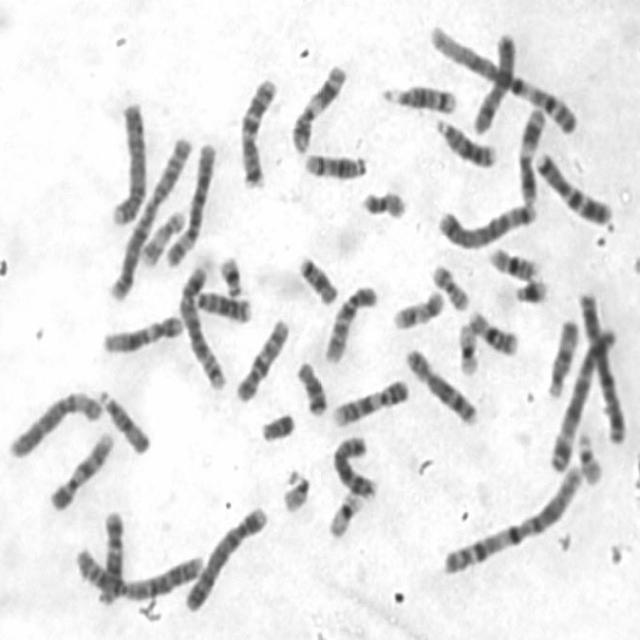A1: (424, 19, 583, 137), (438, 458, 587, 579)
A2: (105, 130, 194, 303), (67, 542, 207, 602)
A3: (546, 320, 622, 474), (574, 286, 630, 448)
B4: (180, 500, 270, 616), (107, 97, 149, 228)
B5: (176, 258, 229, 394), (433, 198, 538, 252)
C10: (230, 314, 292, 404), (321, 280, 379, 365)
C11: (288, 60, 348, 155), (514, 102, 547, 206)
C12: (100, 310, 186, 356), (95, 505, 125, 607)
C6: (162, 136, 218, 269), (5, 386, 105, 460)
C7: (532, 144, 615, 228), (235, 72, 279, 190)
C8: (401, 344, 478, 426), (328, 431, 379, 501)
C9: (44, 425, 116, 513), (330, 372, 411, 429)
D13: (430, 114, 498, 169), (187, 285, 253, 324)
D14: (379, 79, 460, 115), (299, 148, 369, 182)
D15: (95, 385, 153, 457), (545, 315, 580, 400)
E16: (464, 304, 520, 357), (484, 238, 544, 283)
E17: (140, 204, 188, 268), (388, 286, 446, 332)
E18: (294, 249, 340, 306), (292, 356, 328, 417)
F19: (324, 488, 364, 540), (455, 318, 480, 378)
F20: (427, 260, 472, 312), (358, 184, 410, 221)
G21: (214, 249, 247, 299), (510, 272, 552, 306)
G22: (572, 427, 605, 488), (278, 464, 312, 514)
X: (468, 26, 519, 135)
Y: (258, 407, 298, 444)
